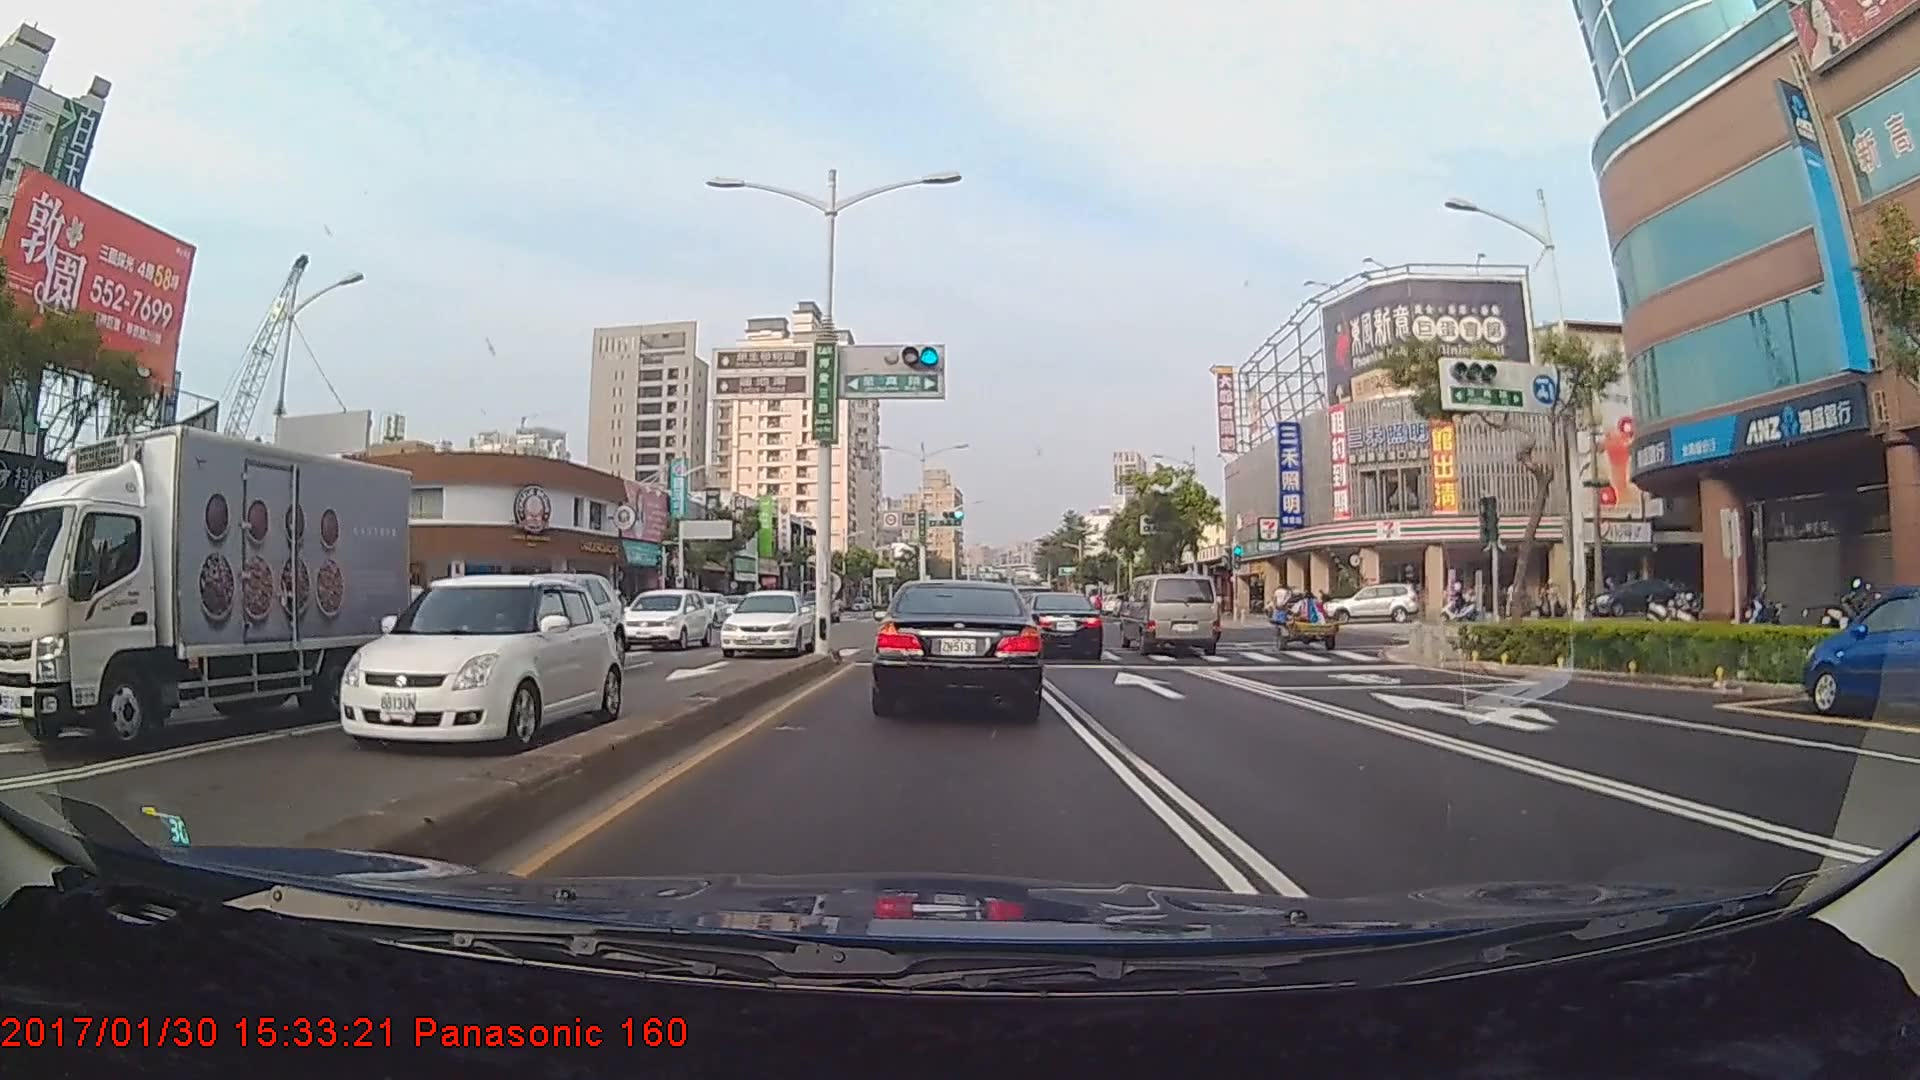vehicle: (16, 415, 407, 749), (327, 567, 617, 756), (876, 574, 1043, 717), (463, 566, 622, 673), (1805, 583, 1919, 717), (1122, 572, 1222, 659), (709, 583, 814, 655), (611, 583, 709, 651), (1021, 592, 1104, 661), (1325, 582, 1423, 625)
